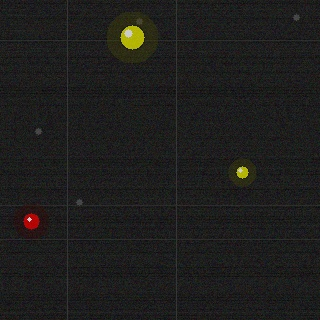red_fault: (21, 211, 41, 231)
yellow_warning: (118, 23, 146, 51), (234, 164, 250, 180)
